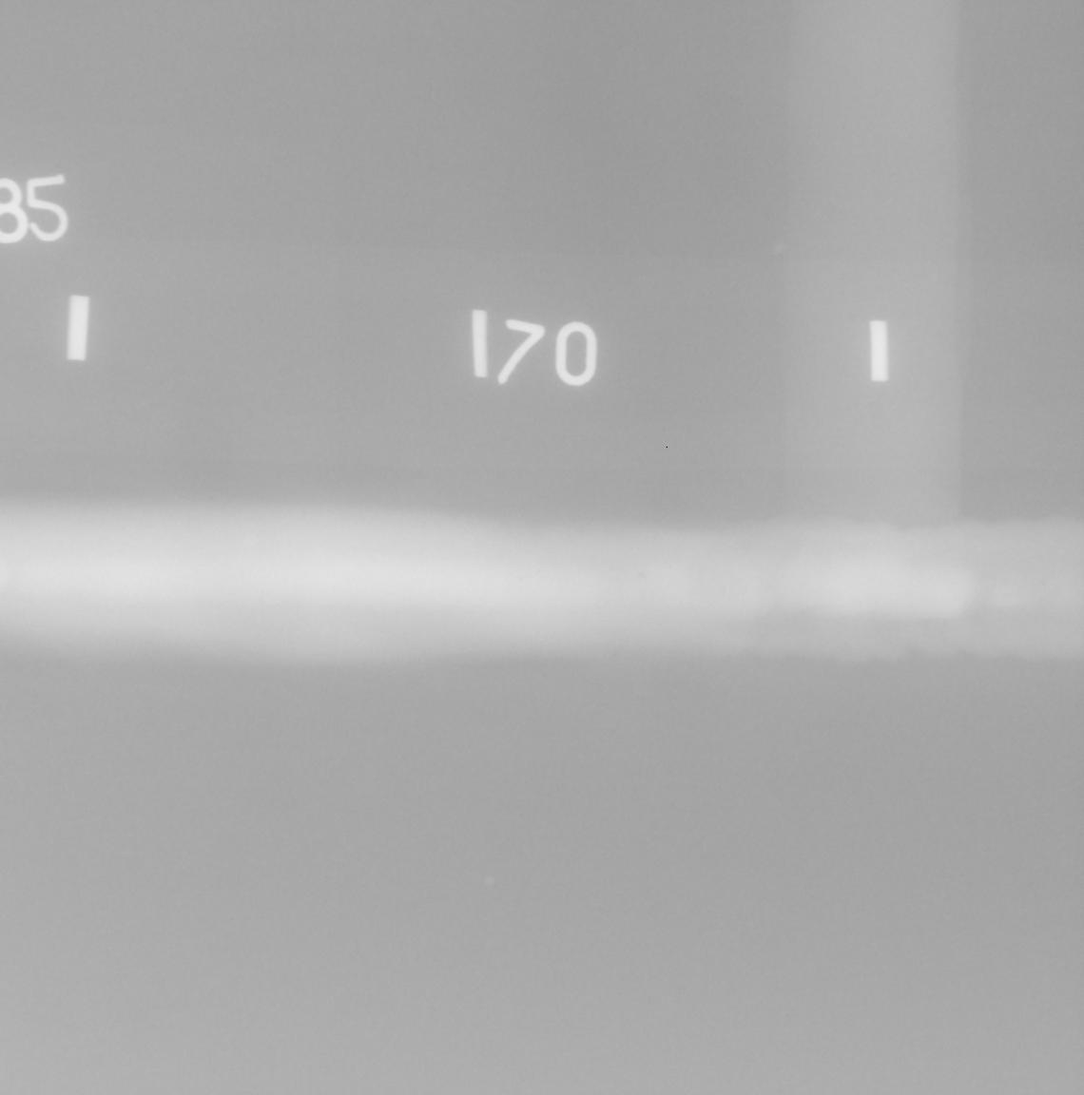Inclusion: (519, 576, 524, 581)
Pore/Porosity: (637, 573, 648, 579), (1038, 580, 1047, 586)
